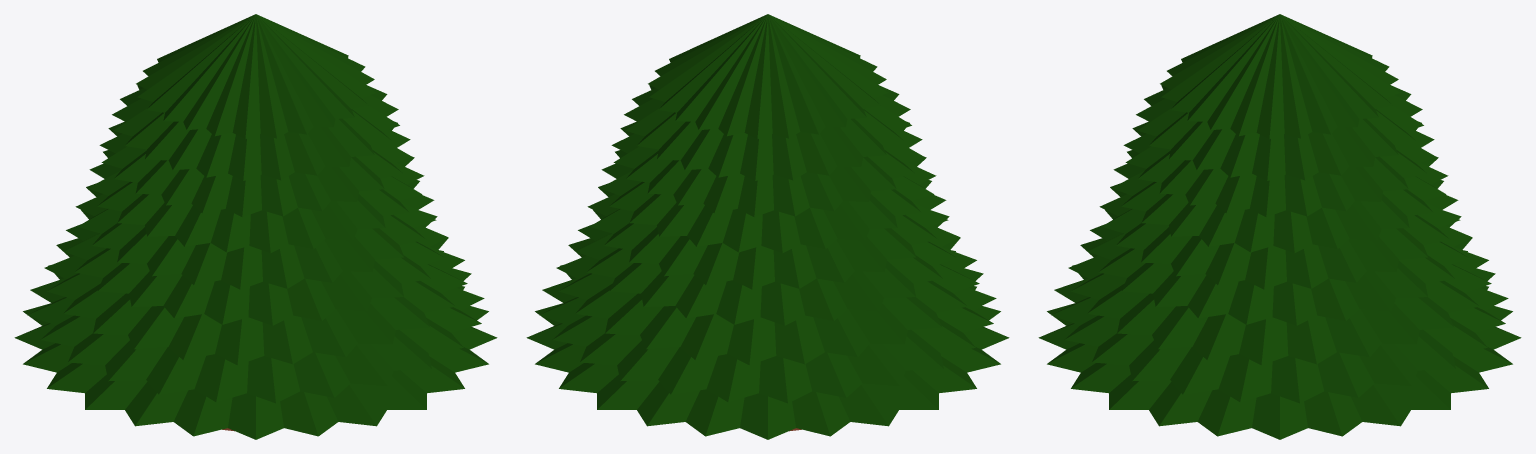
The model's file is Tannenbaum1.fbx.
3 renders of one model, left to right at view 1: azimuth 30°, elevation 25°; view 2: azimuth 150°, elevation 25°; view 3: azimuth 270°, elevation 25°, orthographic.
Parts seen in each view (by area): view 1: mergedBlocks; view 2: mergedBlocks; view 3: mergedBlocks.
Boxes of the visible parts, box(x1,y1,x2,y2) form: mergedBlocks: box(14, 14, 497, 439); mergedBlocks: box(526, 14, 1009, 439); mergedBlocks: box(1038, 14, 1521, 439).
Size of the model in its own units: 141 by 122 by 141.
